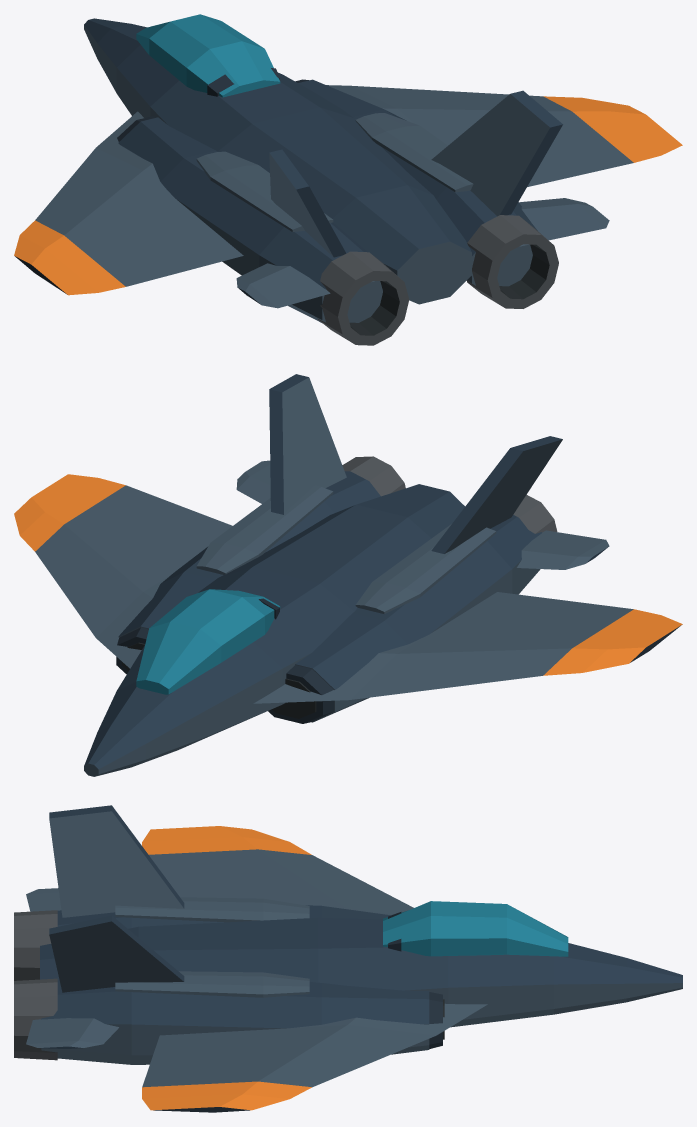
Rendered from XF-01-Kestrel.fbx.
3 views of the same model, one above another, from view 1: azimuth 30°, elevation 25°; view 2: azimuth 150°, elevation 25°; view 3: azimuth 270°, elevation 25° (orthographic). The views are drawn at different scales.
Visible parts, largest first — view 1: Fuselage, Wing_L, Engine_L, Wing_R, Fin_R, Canopy, Nozzle_R, Nozzle_L, Engine_R, Wingtip_L, Wingtip_R, DorsalPanel_R (+4 smaller); view 2: Fuselage, Wing_L, Wing_R, Engine_L, Canopy, Fin_R, Fin_L, Engine_R, DorsalPanel_R, DorsalPanel_L, Wingtip_L, Wingtip_R (+6 smaller); view 3: Fuselage, Engine_R, Wing_R, Wing_L, Fin_L, Canopy, Fin_R, Wingtip_R, DorsalPanel_R, DorsalPanel_L, Wingtip_L, Nozzle_R (+5 smaller).
Part boxes in pixels (x1,y1,x2,y2): Fuselage: (84, 18, 471, 304); Wing_L: (35, 111, 243, 286); Engine_L: (118, 117, 382, 323); Wing_R: (326, 85, 633, 186); Fin_R: (431, 90, 562, 216); Canopy: (136, 14, 280, 97); Nozzle_R: (466, 215, 558, 308); Nozzle_L: (317, 251, 409, 345); Engine_R: (298, 79, 537, 286); Wingtip_L: (14, 220, 125, 295); Wingtip_R: (543, 96, 682, 162); DorsalPanel_R: (355, 113, 473, 192); Fuselage: (84, 484, 464, 776); Wing_L: (253, 592, 633, 703); Wing_R: (35, 485, 232, 668); Engine_L: (295, 515, 541, 722); Canopy: (136, 589, 280, 694); Fin_R: (269, 374, 346, 514); Fin_L: (431, 436, 562, 553); Engine_R: (118, 471, 380, 637); DorsalPanel_R: (196, 485, 333, 574); DorsalPanel_L: (355, 524, 496, 614); Wingtip_L: (543, 609, 682, 675); Wingtip_R: (14, 474, 125, 551); Fuselage: (40, 917, 682, 1027); Engine_R: (41, 980, 429, 1064); Wing_R: (142, 1003, 487, 1087); Wing_L: (149, 849, 413, 915); Fin_L: (49, 805, 184, 917); Canopy: (383, 901, 568, 956); Fin_R: (49, 915, 184, 992); Wingtip_R: (142, 1081, 311, 1112); DorsalPanel_R: (115, 971, 309, 997); DorsalPanel_L: (115, 897, 309, 922); Wingtip_L: (142, 826, 311, 854); Nozzle_R: (14, 978, 57, 1060).
Bounding box in the file's own units: 944 × 249 × 950.
